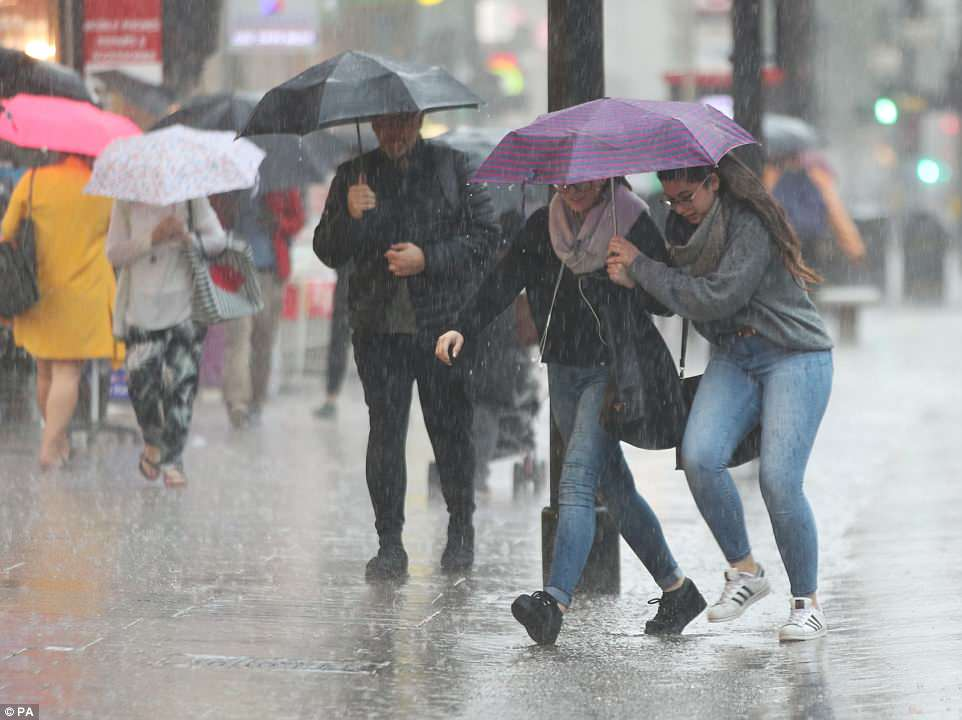person: (654, 151, 832, 648), (312, 111, 491, 588), (502, 167, 653, 649), (107, 191, 217, 490)
